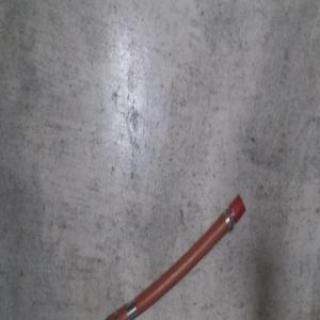Hosetrack_idkeyframe: (99, 189, 245, 319)
